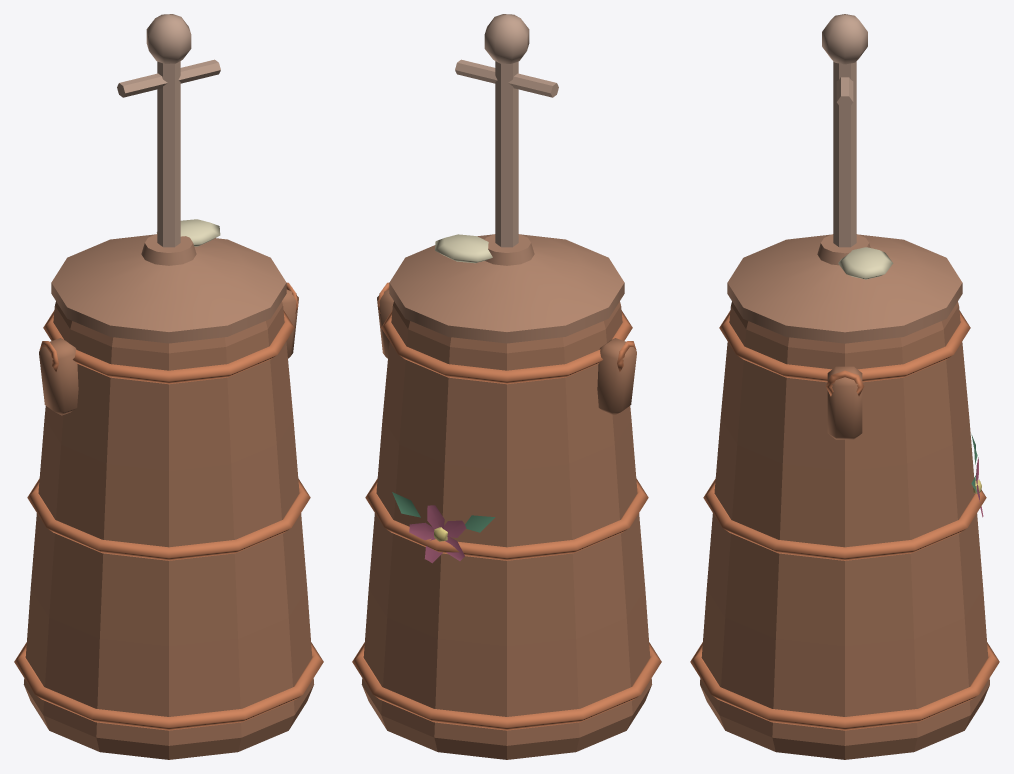
The model's file is butter_churn.glb.
The picture shows the model from 3 angles, left to right: view 1: azimuth 30°, elevation 25°; view 2: azimuth 150°, elevation 25°; view 3: azimuth 270°, elevation 25°; orthographic projection.
Parts seen in each view (by area): view 1: butter_churn; view 2: butter_churn; view 3: butter_churn.
Boxes of the visible parts, x1,y1,x2,y2 form: butter_churn: (14, 14, 323, 759); butter_churn: (352, 14, 661, 759); butter_churn: (690, 14, 999, 759).
Size of what is drawn, in the model's own units: 0.45 by 1.1 by 0.45.
